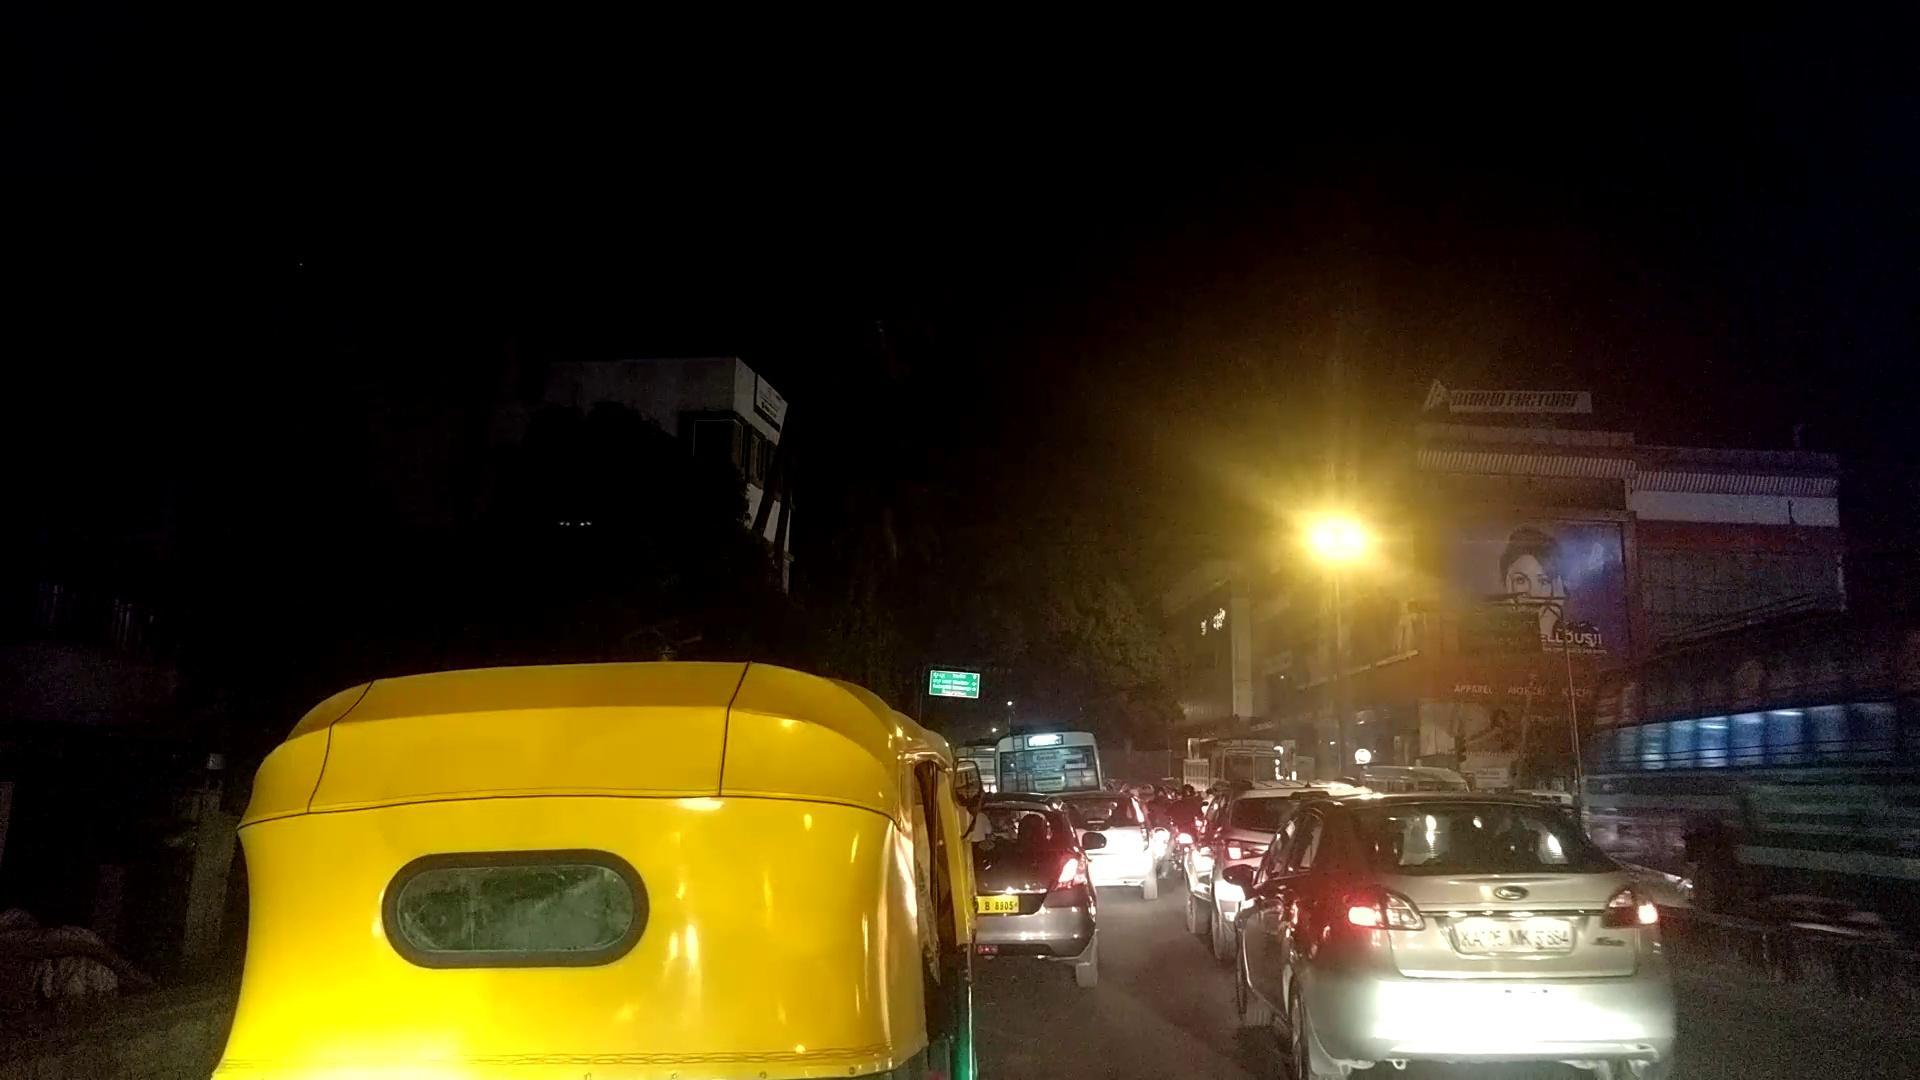on: (1130, 382, 1551, 707)
